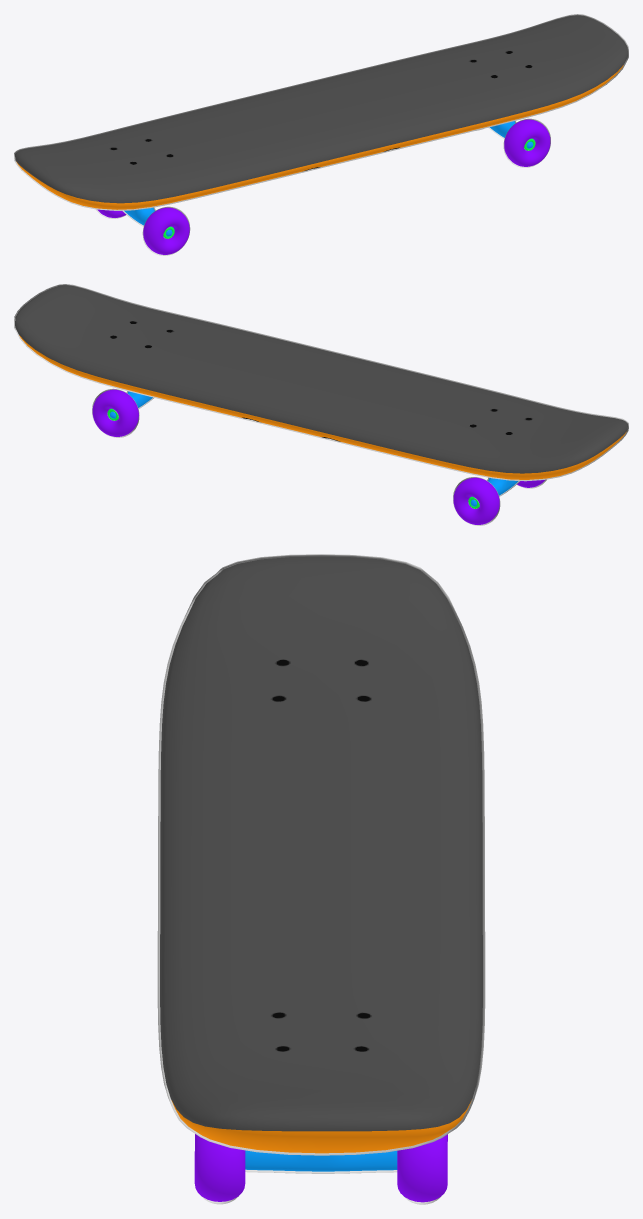
File: Skateboard.glb
3 views of the same model, one above another, from view 1: azimuth 30°, elevation 25°; view 2: azimuth 150°, elevation 25°; view 3: azimuth 270°, elevation 25° (orthographic). The views are drawn at different scales.
Visible parts, largest first — view 1: Board; view 2: Board; view 3: Board.
Part boxes in pixels (bbox=[...]): Board: bbox=[14, 14, 628, 255]; Board: bbox=[14, 284, 628, 525]; Board: bbox=[157, 554, 485, 1204].
Size of the model in its own units: 1.14 by 0.1794 by 0.2788.
Materials: 3 (2 with a texture image).
